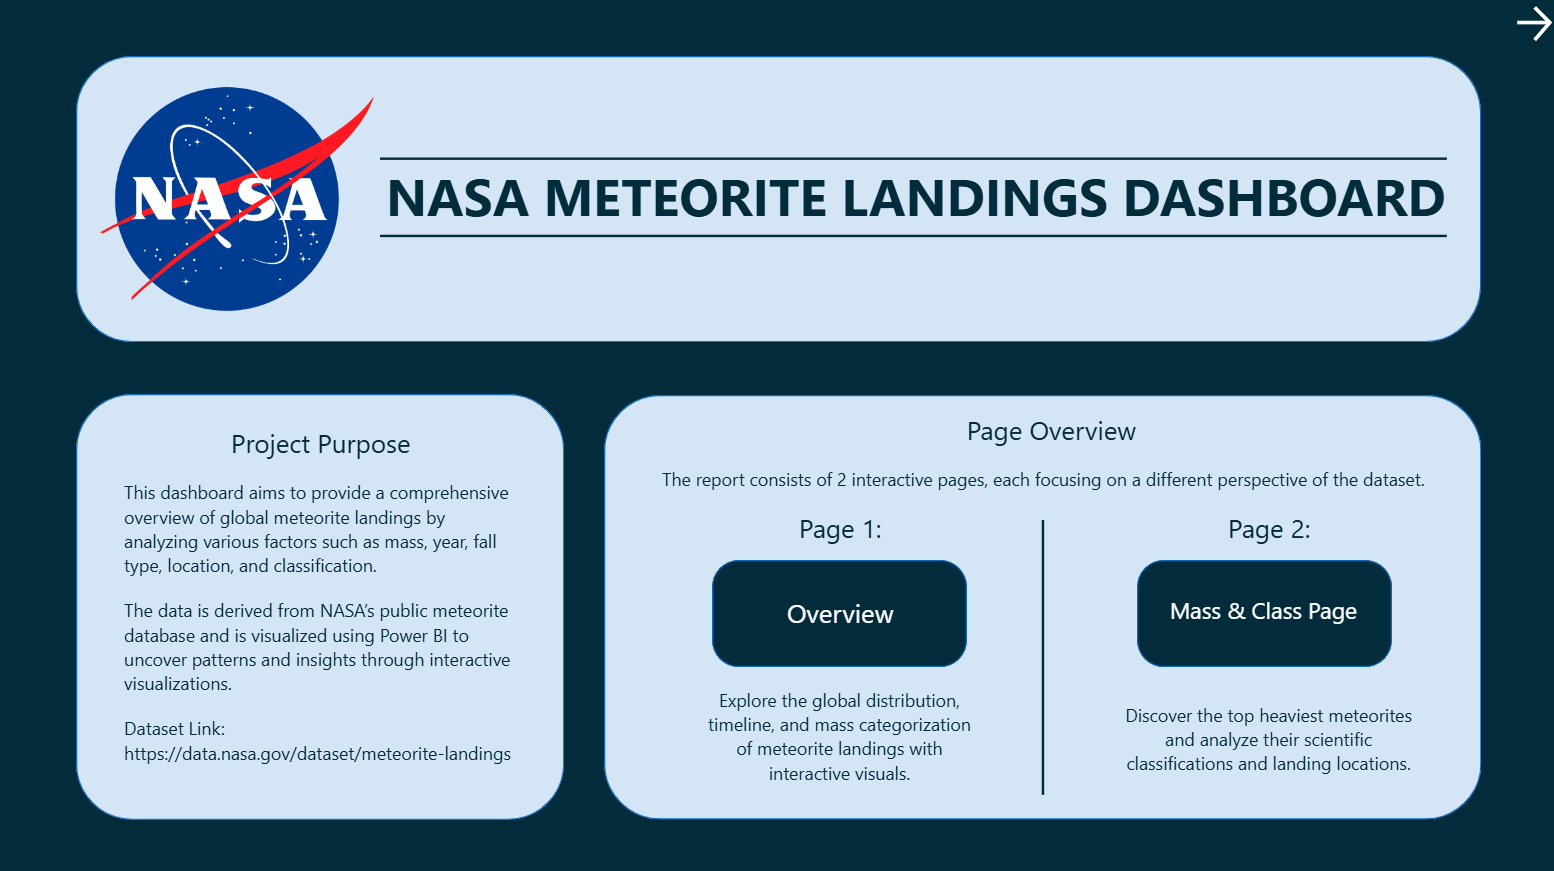

The dashboard page shown, as its layout file describes it:
{"tool":"powerbi","page":{"name":"Start Page","canvas":[1280,720],"ordinal":0},"visuals":[{"type":"shape","box":[62.4,46.8,1155.1,235.3],"z":0},{"type":"textbox","box":[312.2,127.1,905.4,97],"z":1000},{"type":"image","box":[76.9,46.8,235.3,235.3],"z":2000},{"type":"shape","box":[312.2,165,877.5,59.1],"z":3000},{"type":"shape","box":[312.2,98.1,877.5,66.9],"z":4000},{"type":"shape","box":[62.4,324.5,401.4,350.1],"z":5000},{"type":"textbox","box":[97,345.6,333.4,308.9],"z":6000},{"type":"shape","box":[496.2,325.6,721.4,349],"z":7000},{"type":"textbox","box":[539.7,334.5,650,93.7],"z":8000},{"type":"shape","box":[585.4,461.6,209.6,88.1],"z":9000},{"type":"shape","box":[934.4,461.6,209.6,88.1],"z":10000},{"type":"shape","box":[810.6,428.2,93.7,226.3],"z":11000},{"type":"textbox","box":[616.6,485,148.3,46.8],"z":12000},{"type":"textbox","box":[942.2,485,192.9,46.8],"z":13000},{"type":"textbox","box":[569.8,560.8,240.8,93.7],"z":14000},{"type":"textbox","box":[917.6,573.1,250.9,93.7],"z":15000},{"type":"textbox","box":[616.6,414.8,148.3,46.8],"z":16000},{"type":"textbox","box":[968.9,414.8,148.3,46.8],"z":17000},{"type":"actionButton","box":[1241.4,0,38.6,40.3],"z":18000}]}

Visuals, with their boxes in screenshot pixels (x1, y1, x2, y2), scaled from the page's 1280x720 canvas onto the 1554x871 screenshot:
shape: rect(76, 57, 1478, 341)
textbox: rect(379, 154, 1478, 271)
image: rect(93, 57, 379, 341)
shape: rect(379, 200, 1444, 271)
shape: rect(379, 119, 1444, 200)
shape: rect(76, 393, 563, 816)
textbox: rect(118, 418, 523, 792)
shape: rect(602, 394, 1478, 816)
textbox: rect(655, 405, 1444, 518)
shape: rect(711, 558, 965, 665)
shape: rect(1134, 558, 1389, 665)
shape: rect(984, 518, 1098, 792)
textbox: rect(749, 587, 929, 643)
textbox: rect(1144, 587, 1378, 643)
textbox: rect(692, 678, 984, 792)
textbox: rect(1114, 693, 1419, 807)
textbox: rect(749, 502, 929, 558)
textbox: rect(1176, 502, 1356, 558)
actionButton: rect(1507, 0, 1553, 49)
